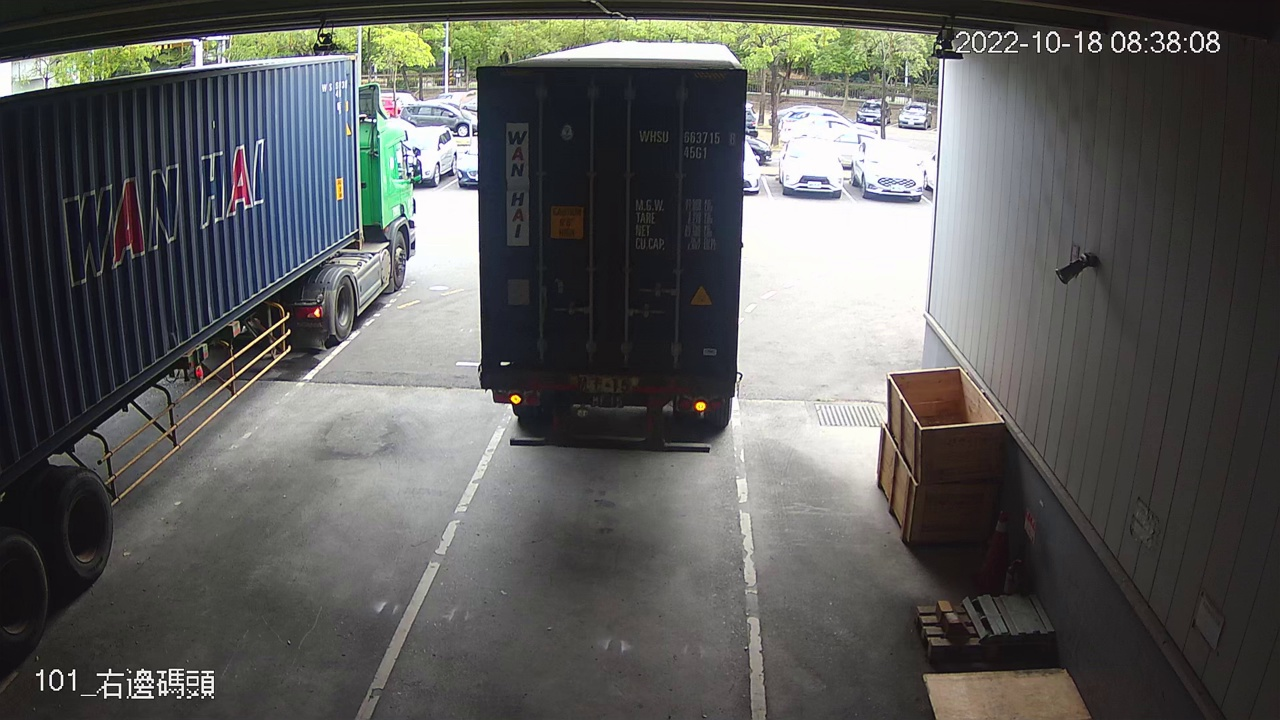container: (635, 124, 739, 165)
